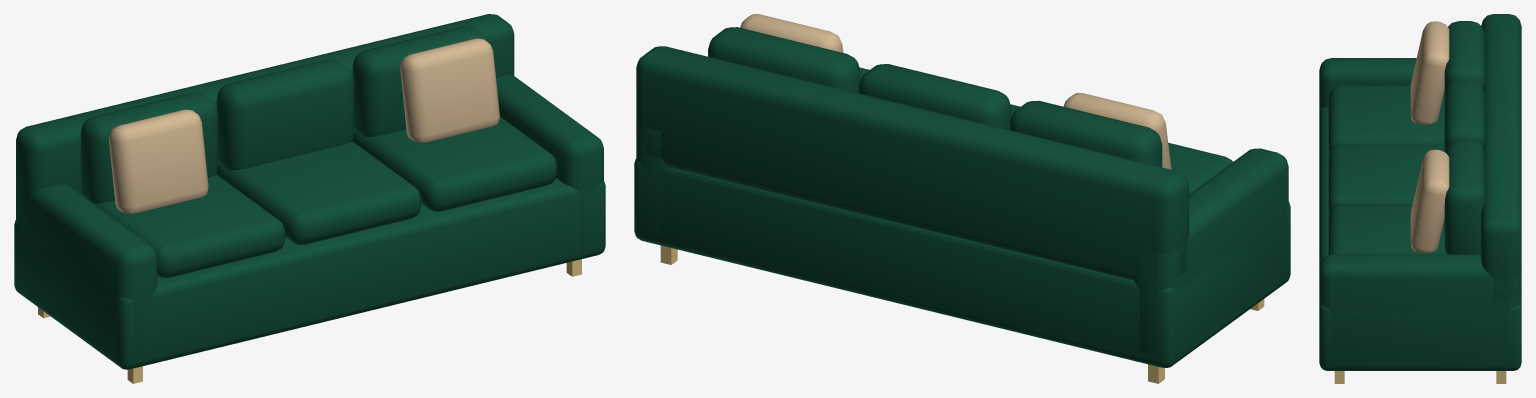
The model's file is fur_sofa_emerald.glb.
The picture shows the model from 3 angles, left to right: view 1: azimuth 30°, elevation 25°; view 2: azimuth 150°, elevation 25°; view 3: azimuth 270°, elevation 25°; orthographic projection. The views are drawn at different scales.
Visible parts, largest first — view 1: FUR_sofa_emerald; view 2: FUR_sofa_emerald; view 3: FUR_sofa_emerald.
Part boxes in pixels (<box>): FUR_sofa_emerald: <box>14,14,605,383</box>; FUR_sofa_emerald: <box>634,14,1290,383</box>; FUR_sofa_emerald: <box>1319,14,1521,383</box>.
Bounding box in the file's own units: 2.5 × 1.01 × 1.
2 materials, 1 textured.
